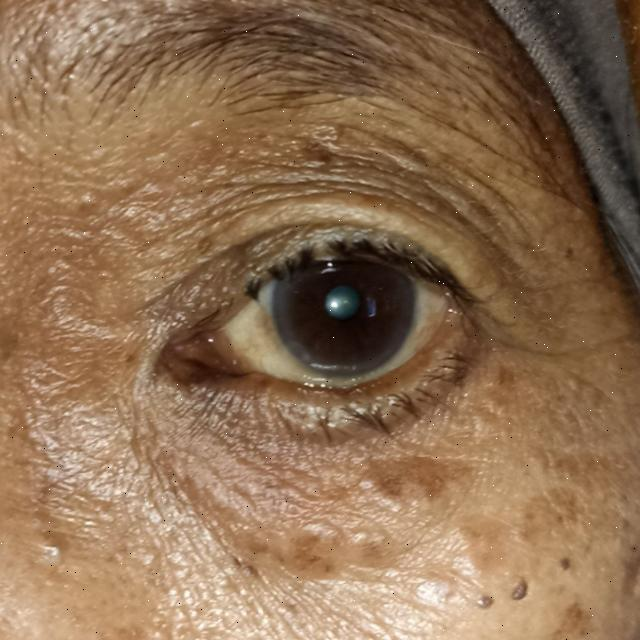Cataract: (272, 236, 414, 378)
